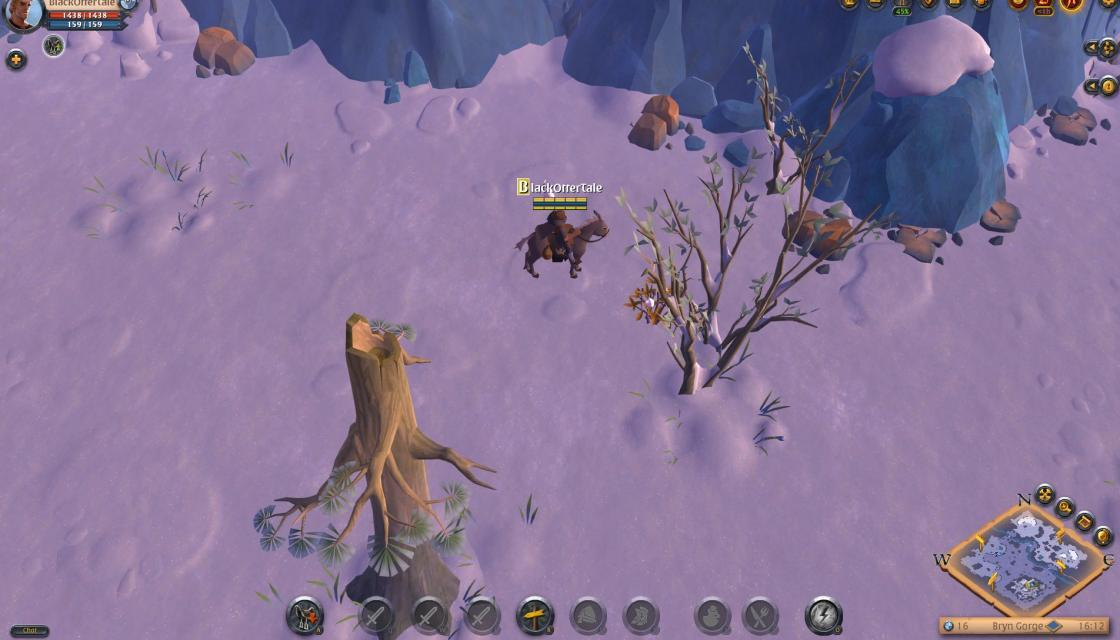limestone: (781, 208, 855, 264), (191, 26, 255, 81), (627, 91, 682, 150)
